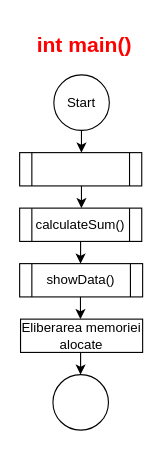
Some shapes in this 162 by 450 pixel diagram are drawn without their labels. The shapes that lost their labels are listed below. From the top down, each one's centre as x and y in pixels, then its label:
(x=80, y=169): readData()
(x=80, y=402): return 0
